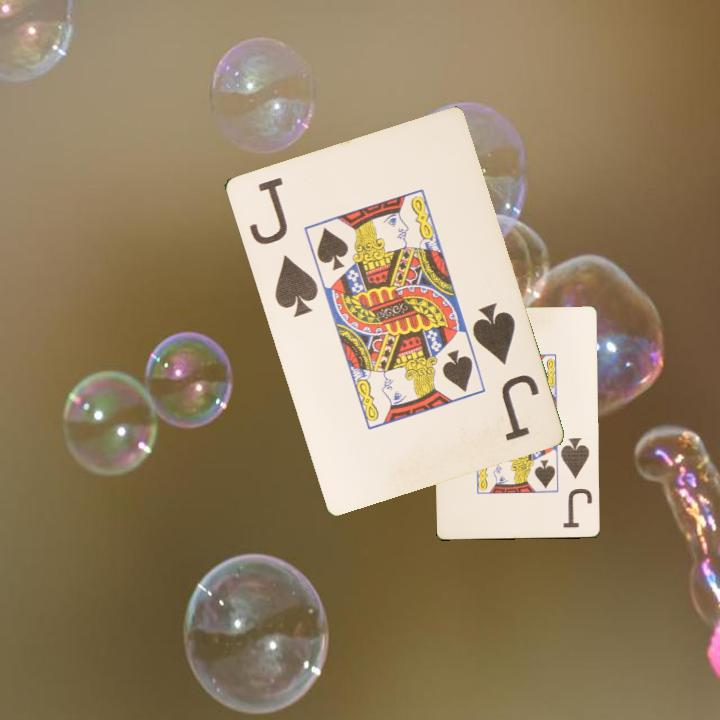Js: (244, 173, 321, 320), (468, 299, 542, 444), (557, 435, 595, 531)
